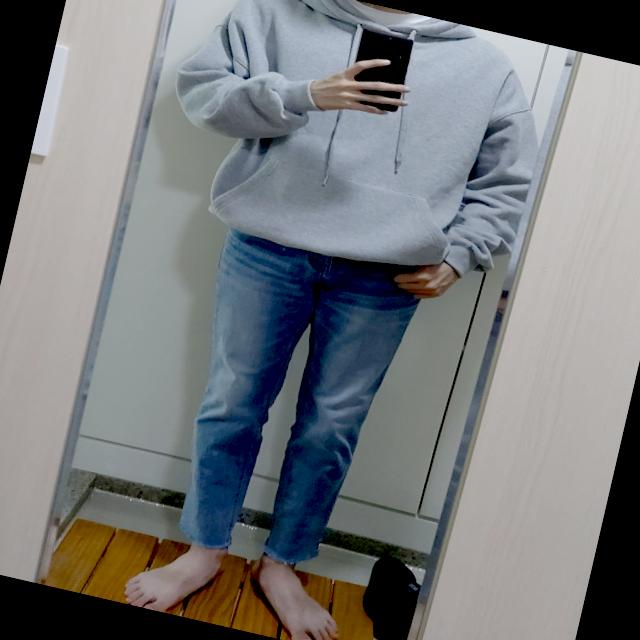denimpants: (154, 227, 426, 587)
hoodies: (146, 0, 568, 301)
